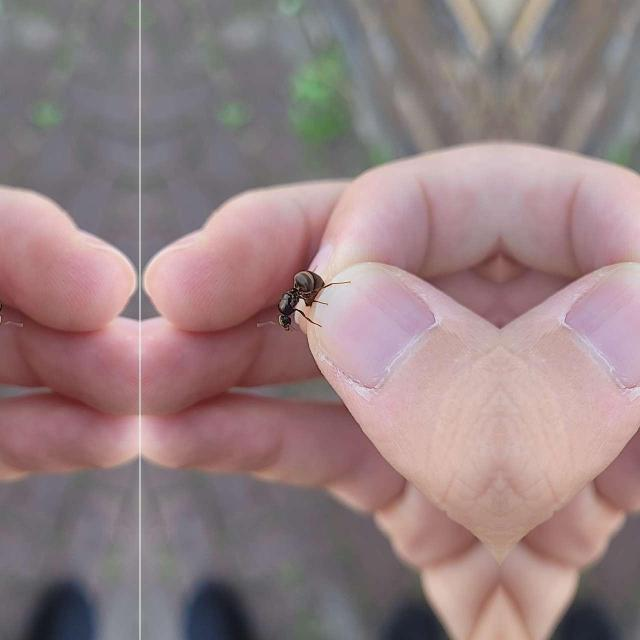Lasius: (267, 264, 323, 330), (0, 263, 12, 328)
